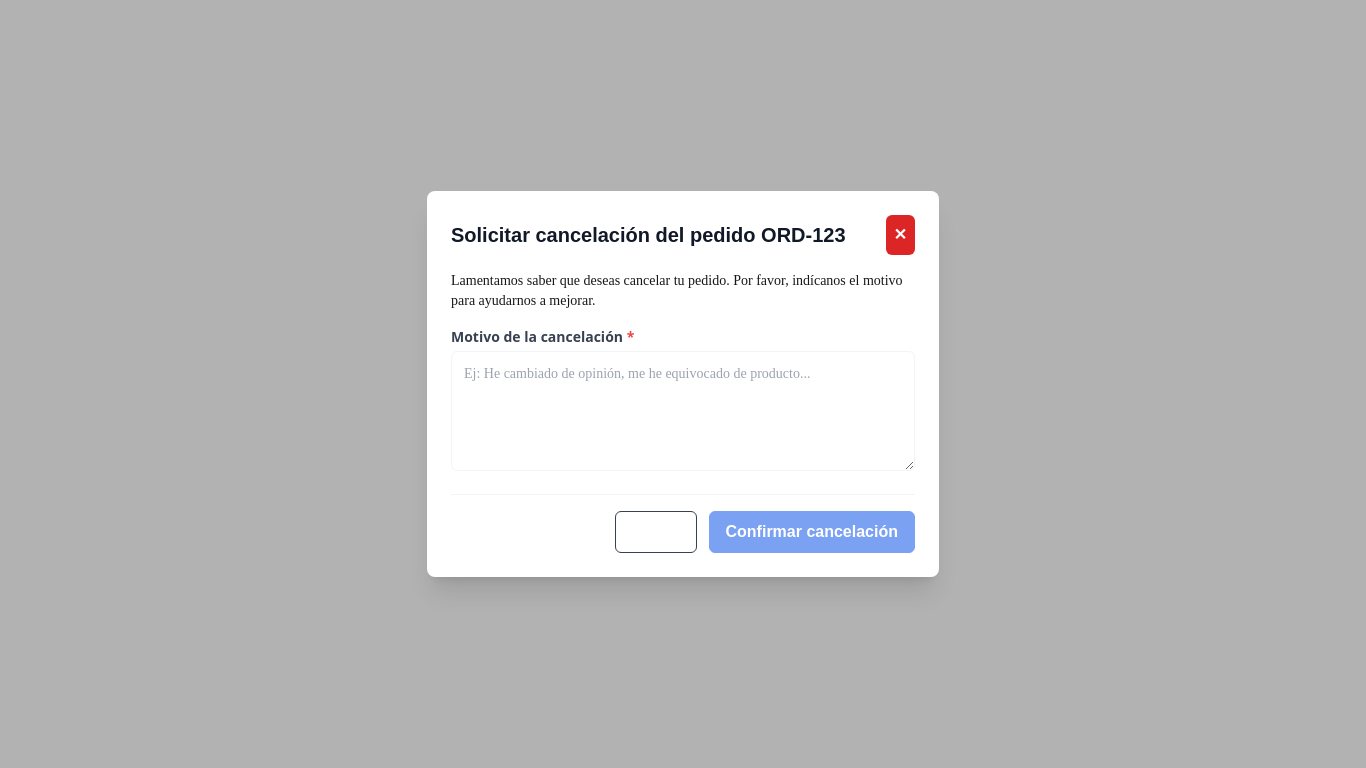
Test case: CancelOrderModal Component › clears error when typing again
The width and height of the screenshot is (1366, 768).
Type "Fail test" into the text box labelled "Motivo de la cancelación *".
click(683, 411); type("Fail test")  # box [451,351,915,471]
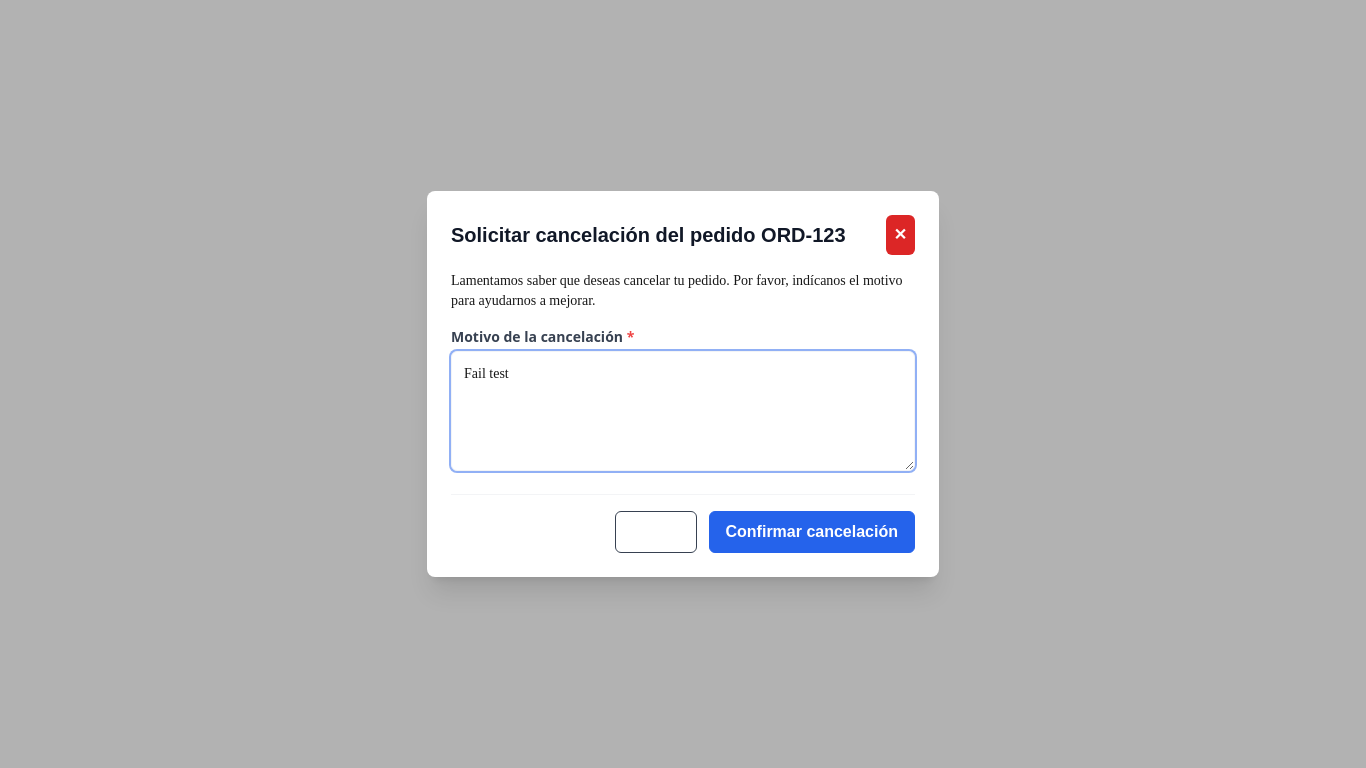
Click the button "Confirmar cancelación".
click(812, 532)  # box [708,511,915,553]
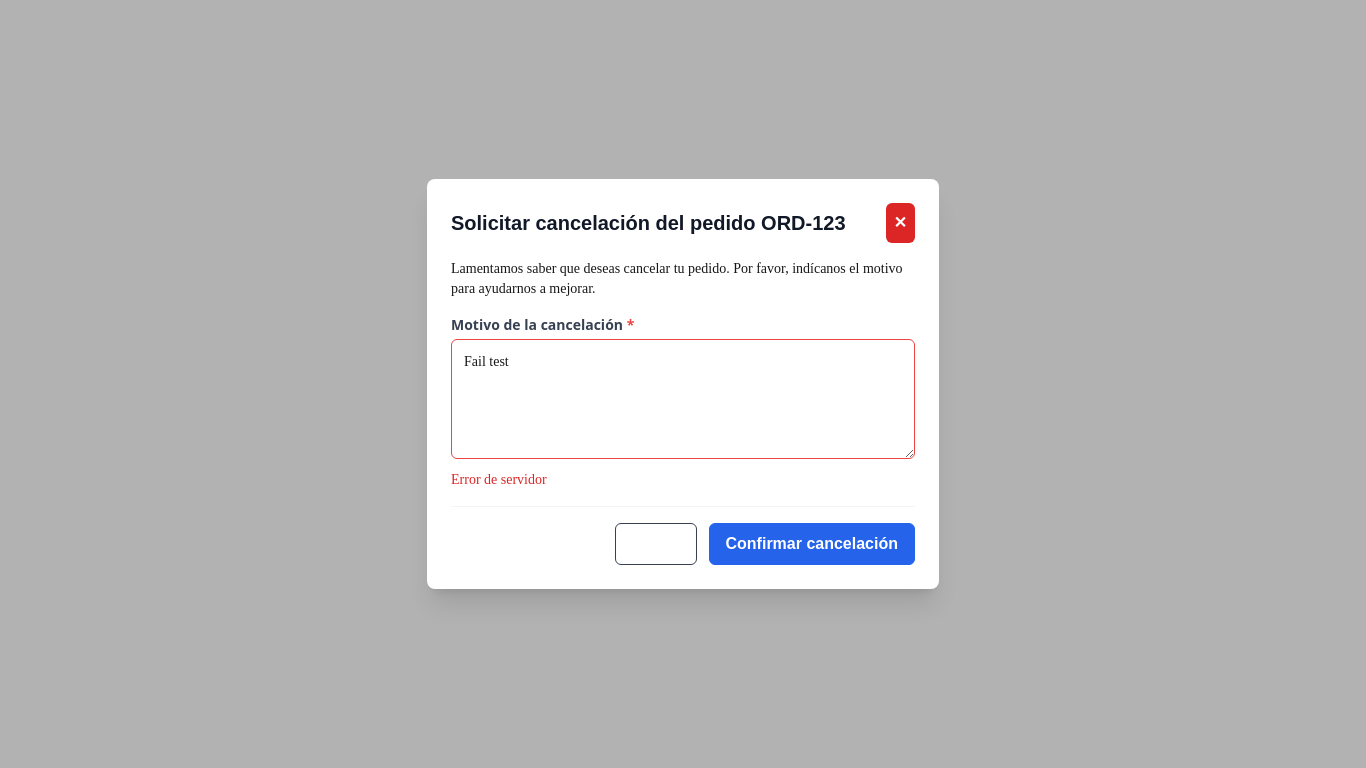
Check: the text "Error de servidor" is shown, box [451,472,547,487]
Type " changes" into the text box labelled "Motivo de la cancelación *".
click(683, 399); type(" changes")  # box [451,339,915,459]
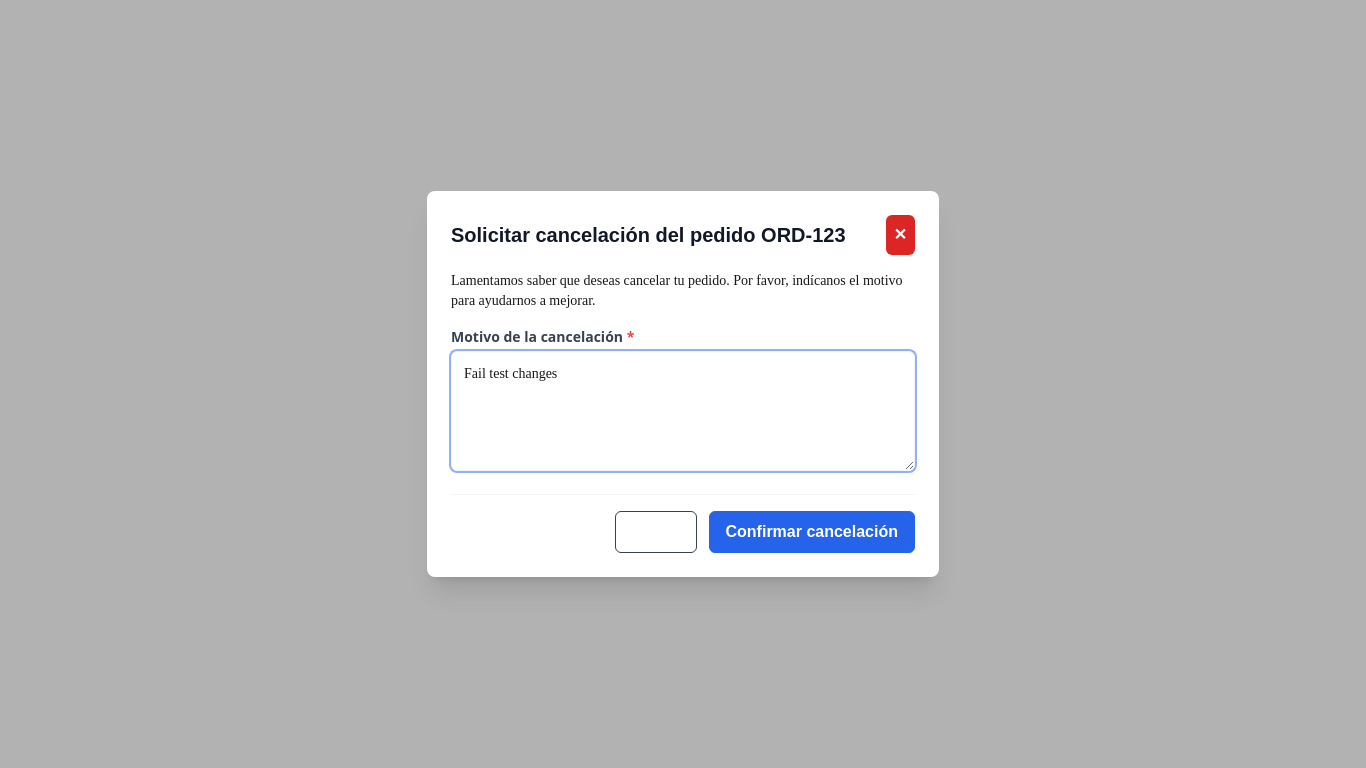
Check: the text "Error de servidor" is gone
